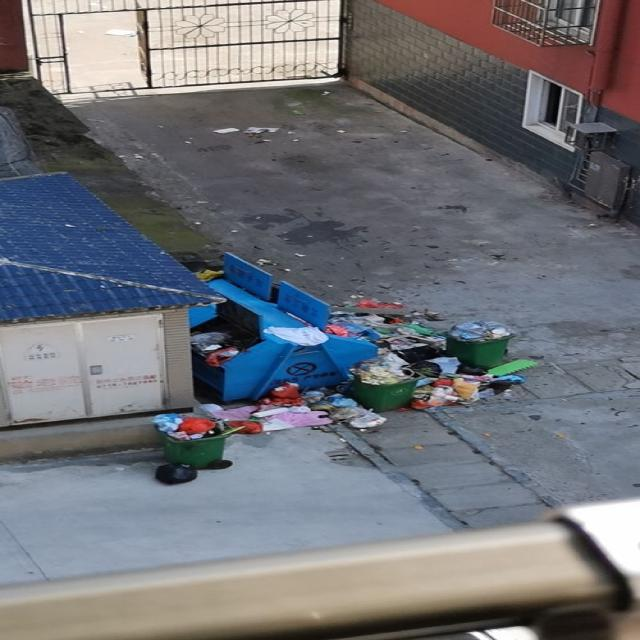garbage: (326, 298, 539, 412), (193, 382, 387, 432), (152, 458, 196, 484)
overflow: (349, 353, 425, 411), (148, 413, 224, 469), (443, 319, 514, 367)
